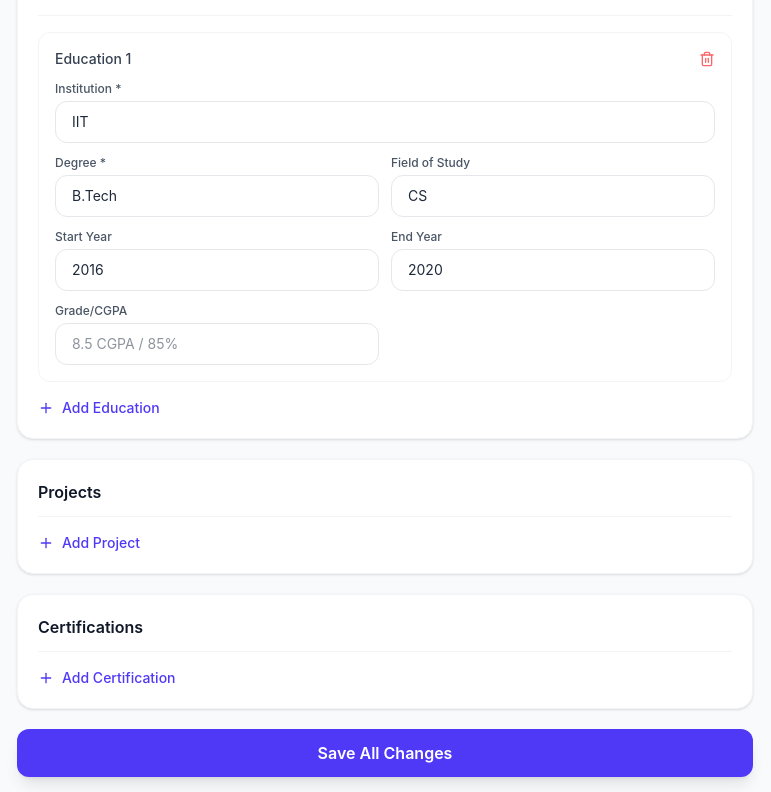
Test: EditProfile — Certifications › adds new certification entry when Add Certification clicked
The image size is (771, 792).
(page scrolled)
Step 1. Click the button "Add Certification" → (107, 678), box [38, 668, 176, 688]
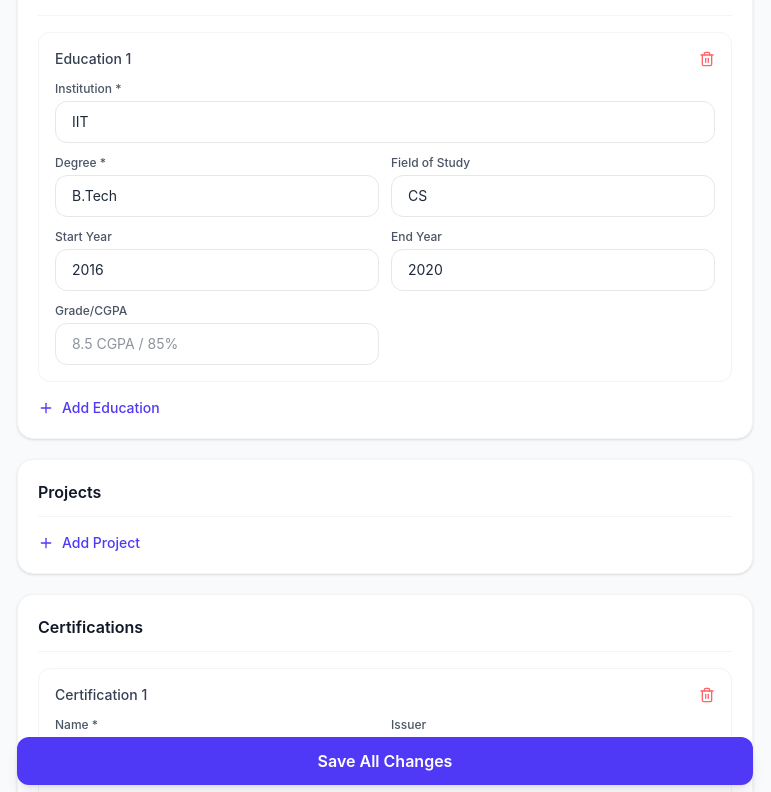
Expected: the text "Certification 1" is shown, [55, 685, 147, 705]
